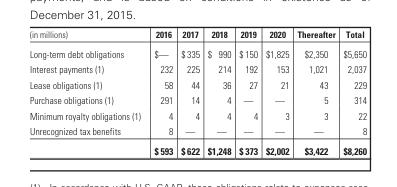table: (29, 28, 366, 156)
table column: (29, 28, 146, 156), (292, 28, 338, 156), (202, 28, 234, 156), (261, 28, 292, 156), (146, 28, 176, 156), (338, 28, 366, 156), (234, 28, 261, 156), (176, 28, 202, 156)
table column header: (29, 28, 366, 43)
table row: (29, 43, 366, 61), (29, 123, 366, 140), (29, 76, 366, 92), (29, 107, 366, 123), (29, 140, 366, 156), (29, 28, 366, 43), (29, 61, 366, 76), (29, 92, 366, 107)
